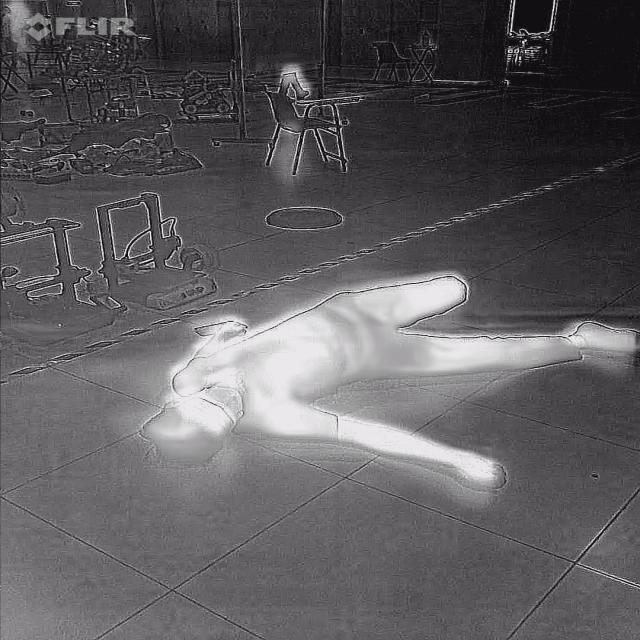Victim: (130, 267, 638, 505)
